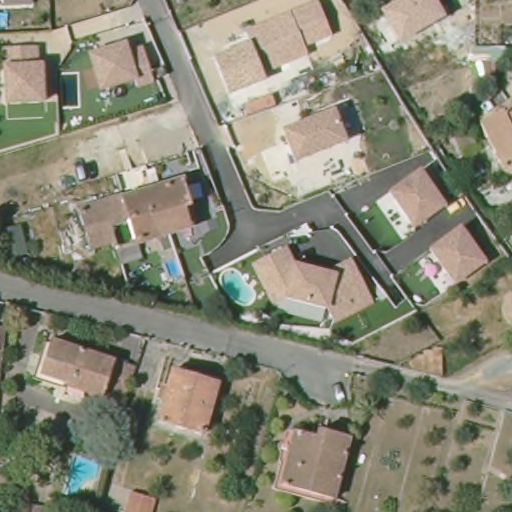pool: (56, 449, 104, 496), (216, 262, 258, 309), (161, 259, 187, 283)
